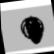correct: (18, 13, 49, 49)
